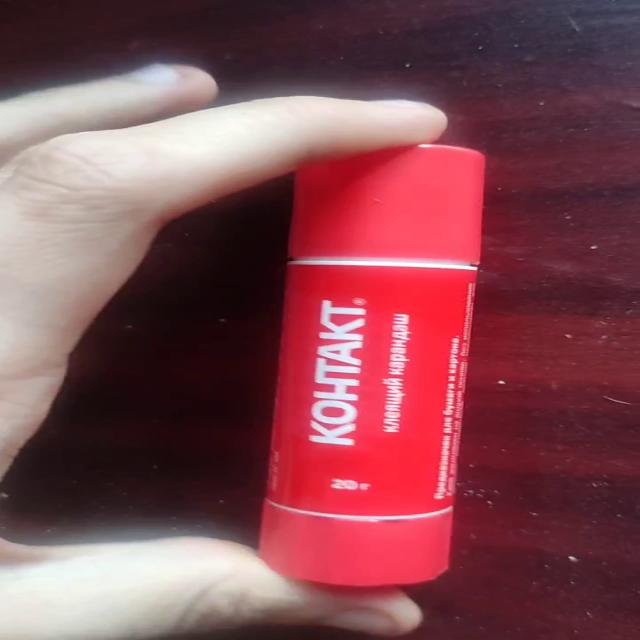glue: (255, 141, 485, 587)
